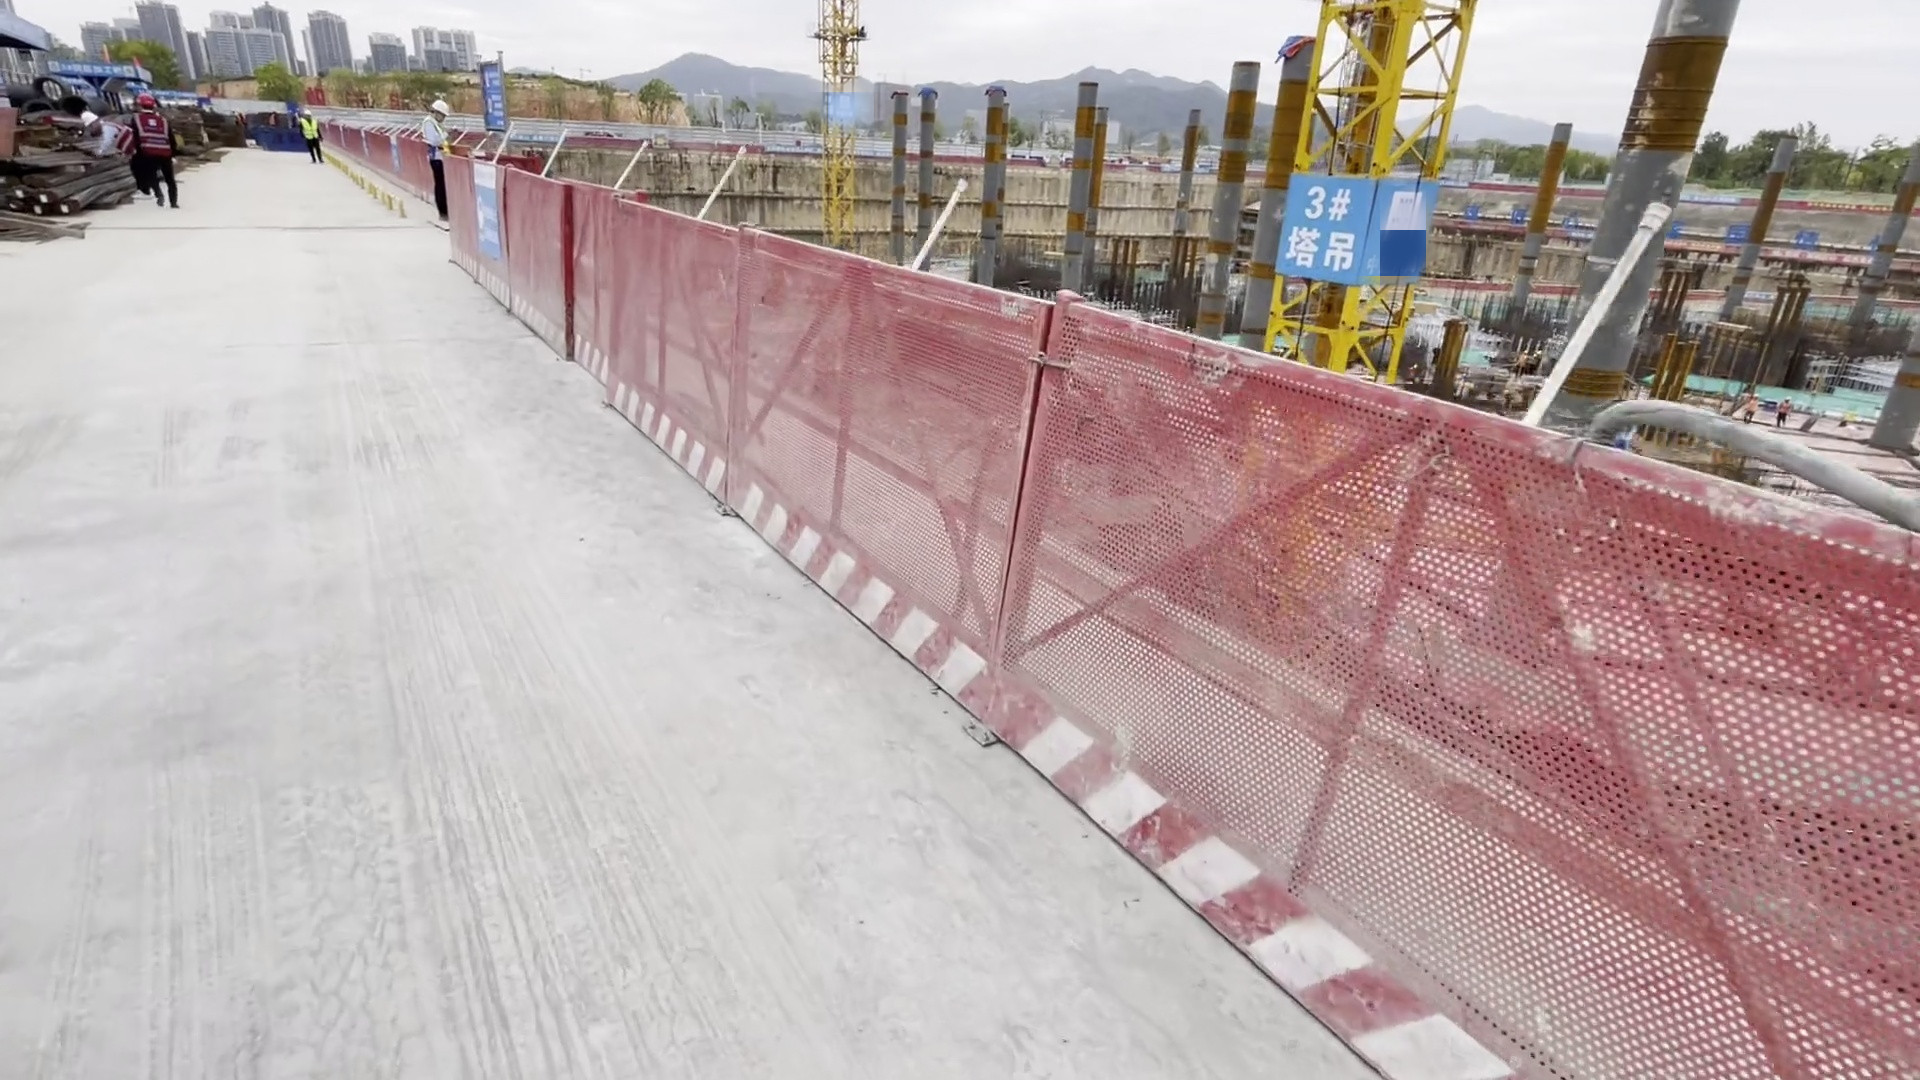helmet: (428, 99, 446, 120), (134, 94, 156, 109), (80, 108, 98, 127), (300, 109, 313, 117)
person: (128, 91, 179, 210), (420, 99, 460, 237), (79, 112, 139, 197), (297, 109, 323, 165)
vest: (136, 112, 170, 160), (419, 117, 448, 159), (102, 122, 134, 159), (299, 117, 321, 143)
